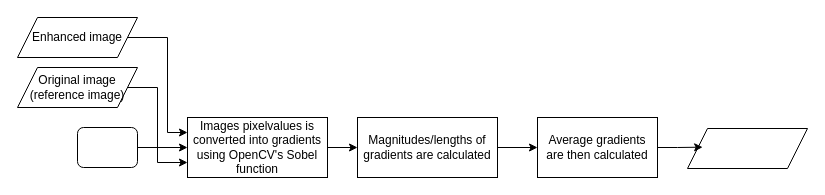
Image size: 825x195. Some labels were removed from this diagram. The shapes that lost their labels are listed below. From the top down, each one's centre as x and y in pixels, then its label:
(x=107, y=147): Start
(x=747, y=148): Print outputs
